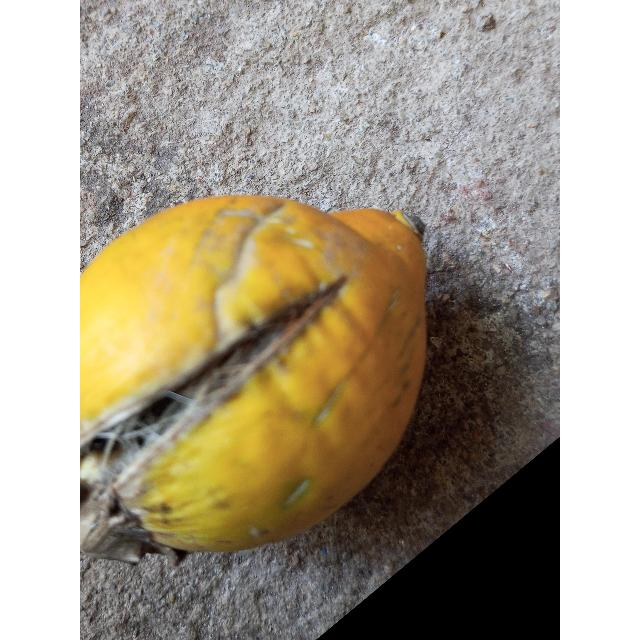damaged: (80, 195, 429, 568)
